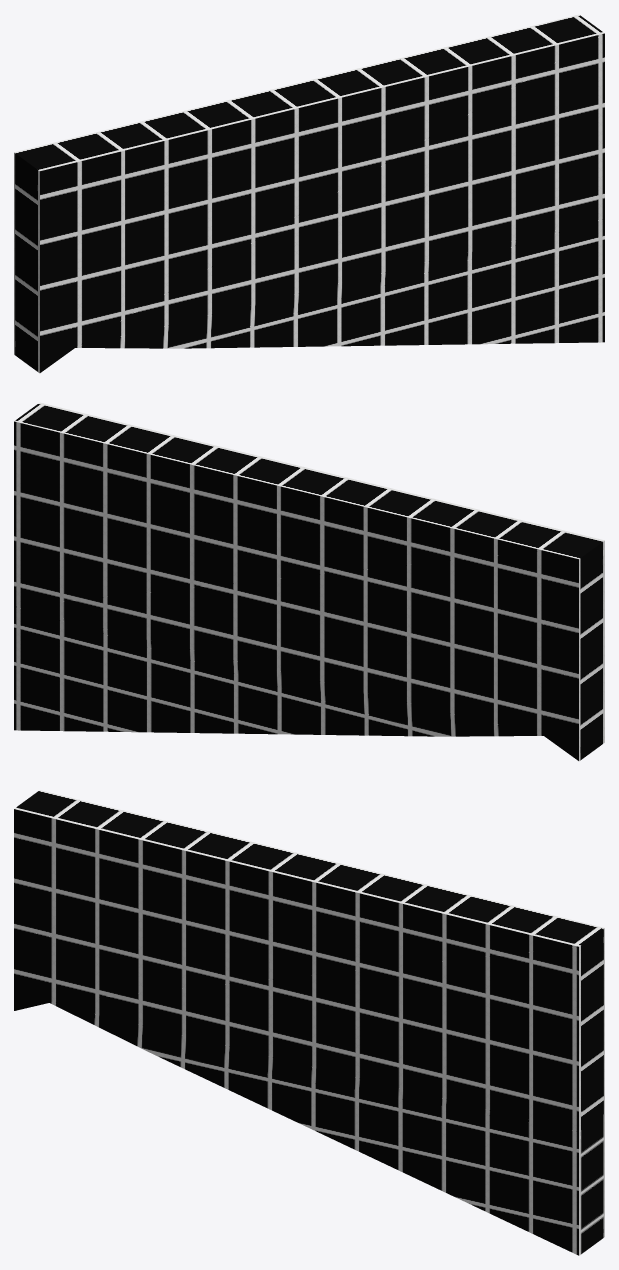
Rendered from ramp4.glb.
3 renders of one model, top to bottom at view 1: azimuth 30°, elevation 25°; view 2: azimuth 150°, elevation 25°; view 3: azimuth 330°, elevation 25°, orthographic.
Parts seen in each view (by area): view 1: Cube; view 2: Cube; view 3: Cube.
Boxes of the visible parts, <box> form: Cube: <box>14,14,604,373</box>; Cube: <box>14,402,604,761</box>; Cube: <box>14,790,604,1255</box>.
Size of the model in its own units: 905 by 473 by 71.68.
1 material, 1 textured.
